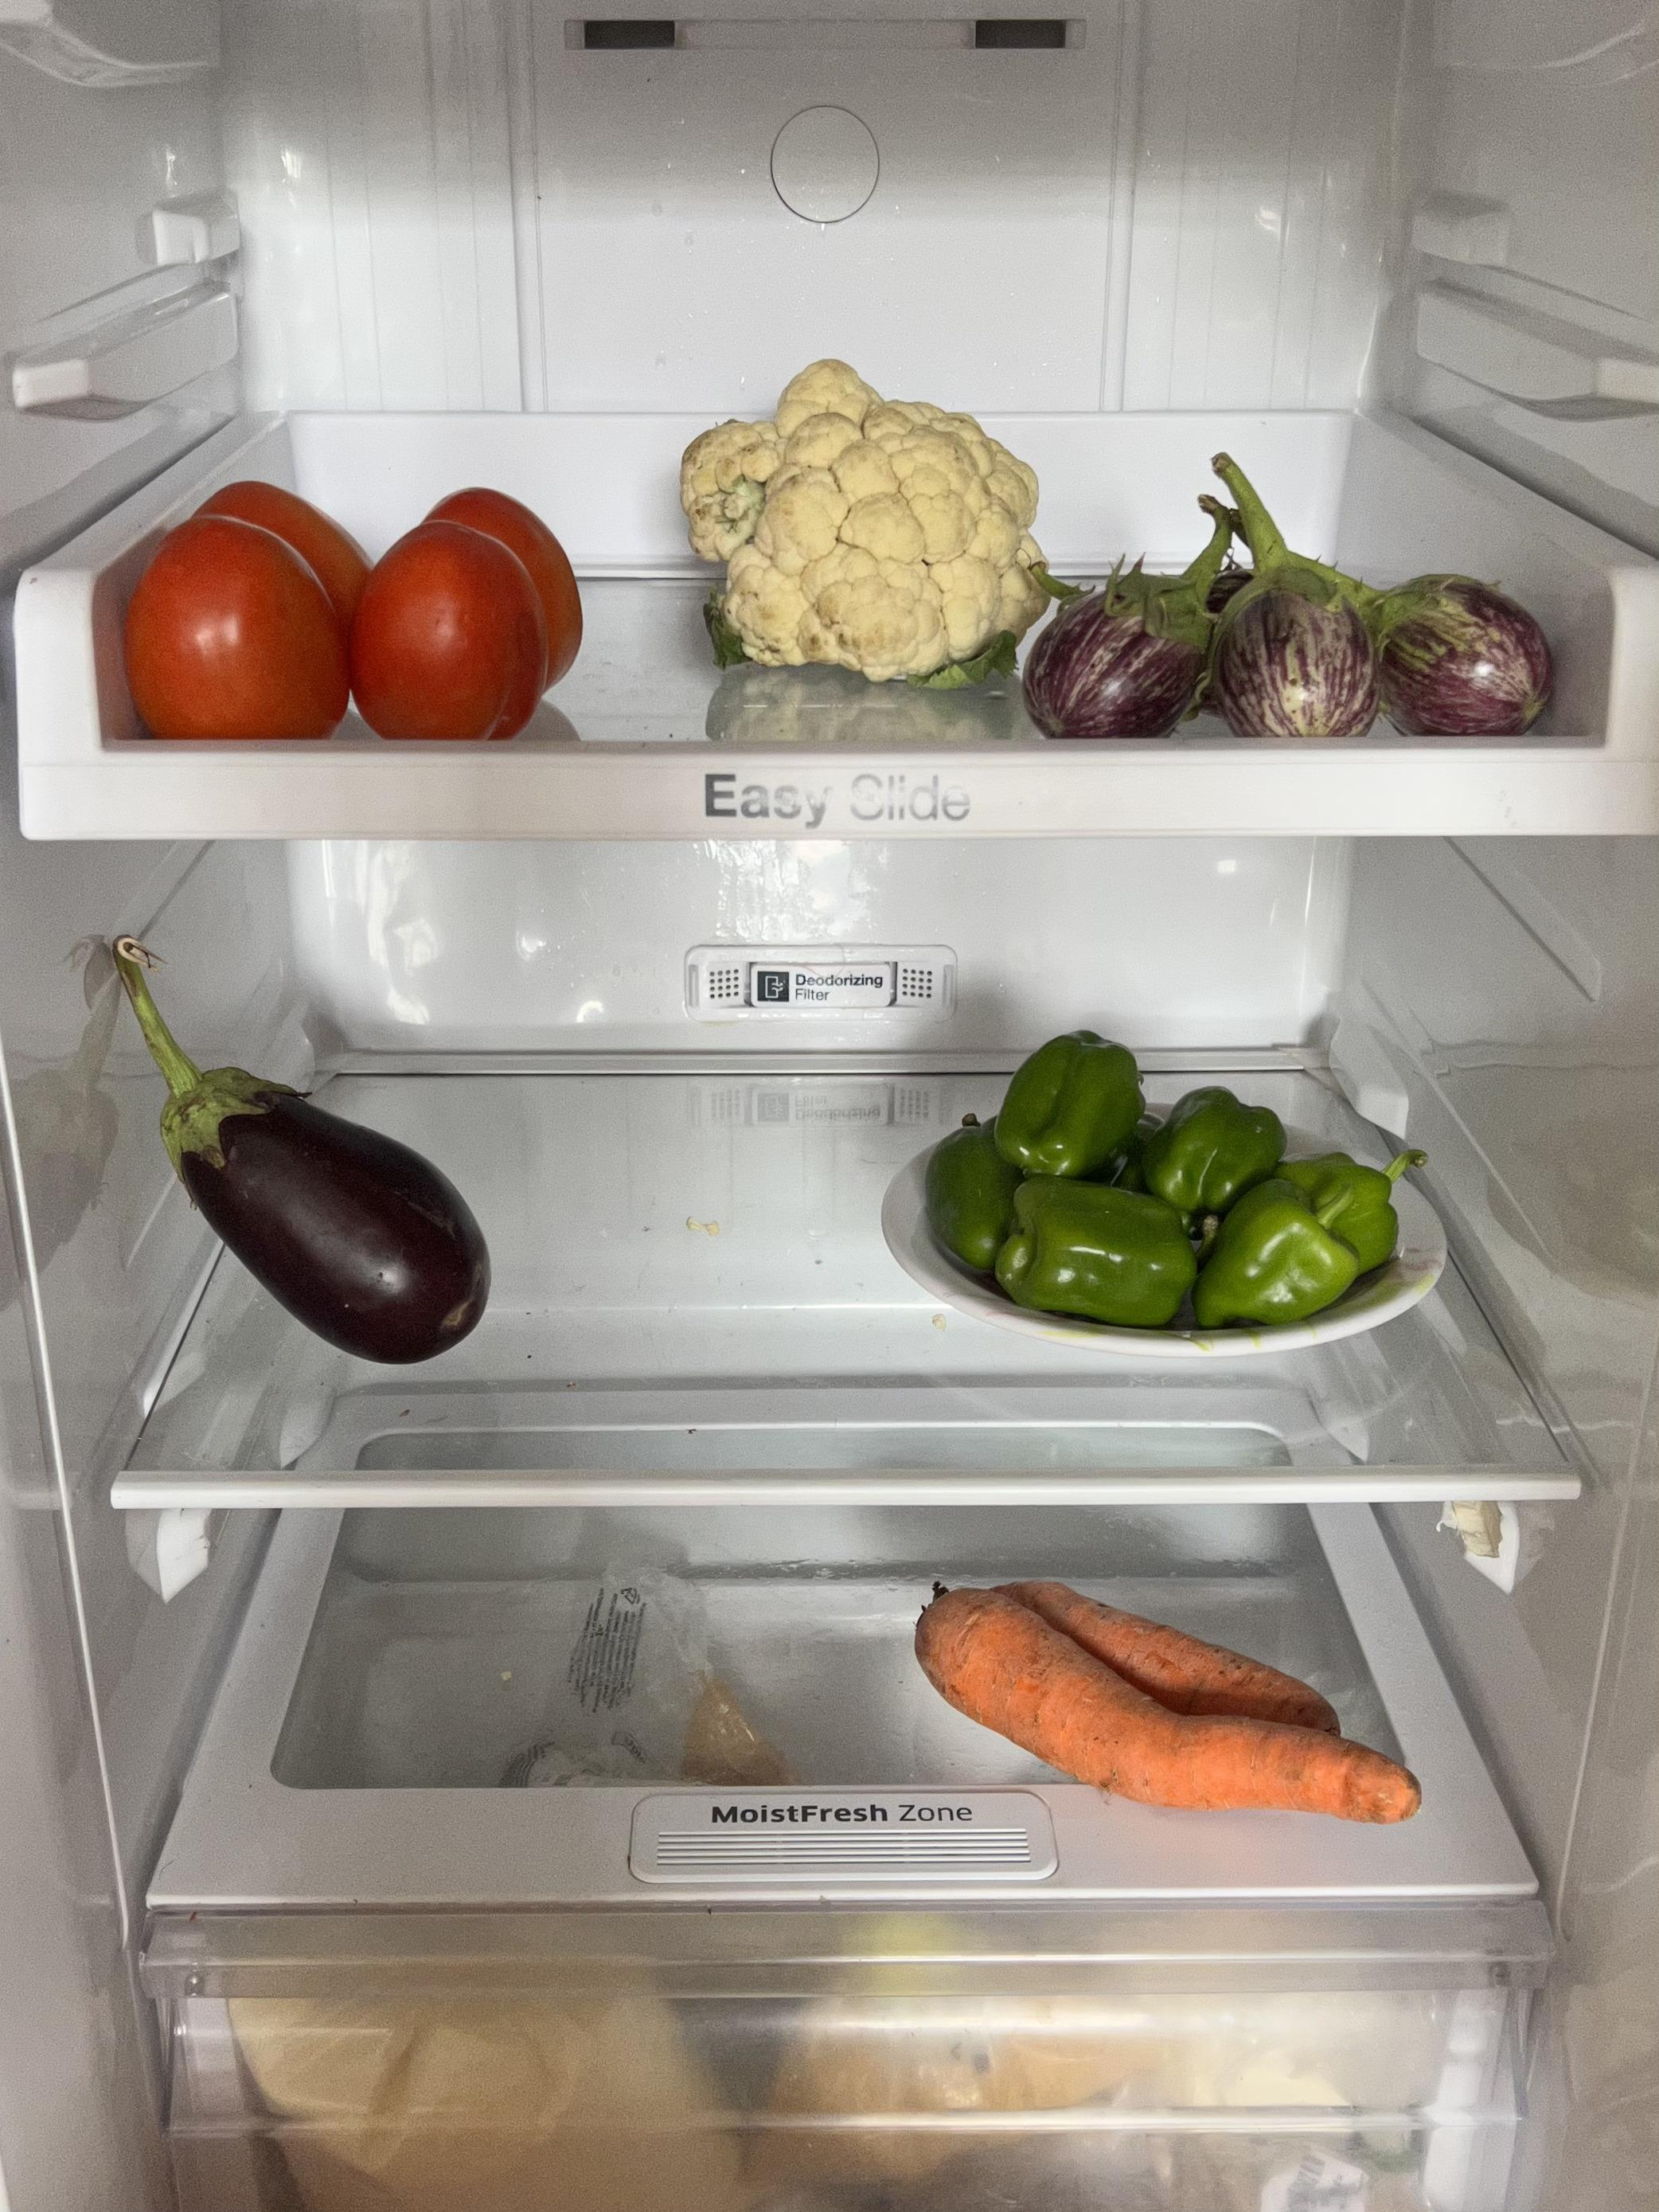bringal: (105, 938, 490, 1365), (1025, 519, 1558, 744)
capsicum: (922, 1035, 1420, 1337)
carrots: (922, 1576, 1424, 1825)
cauliflower: (685, 361, 1037, 669)
tomato: (120, 479, 587, 741)
